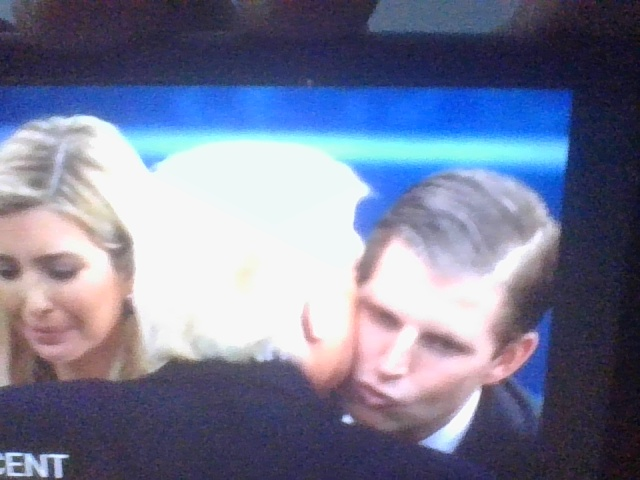fake: (325, 167, 520, 444), (0, 161, 157, 383)
